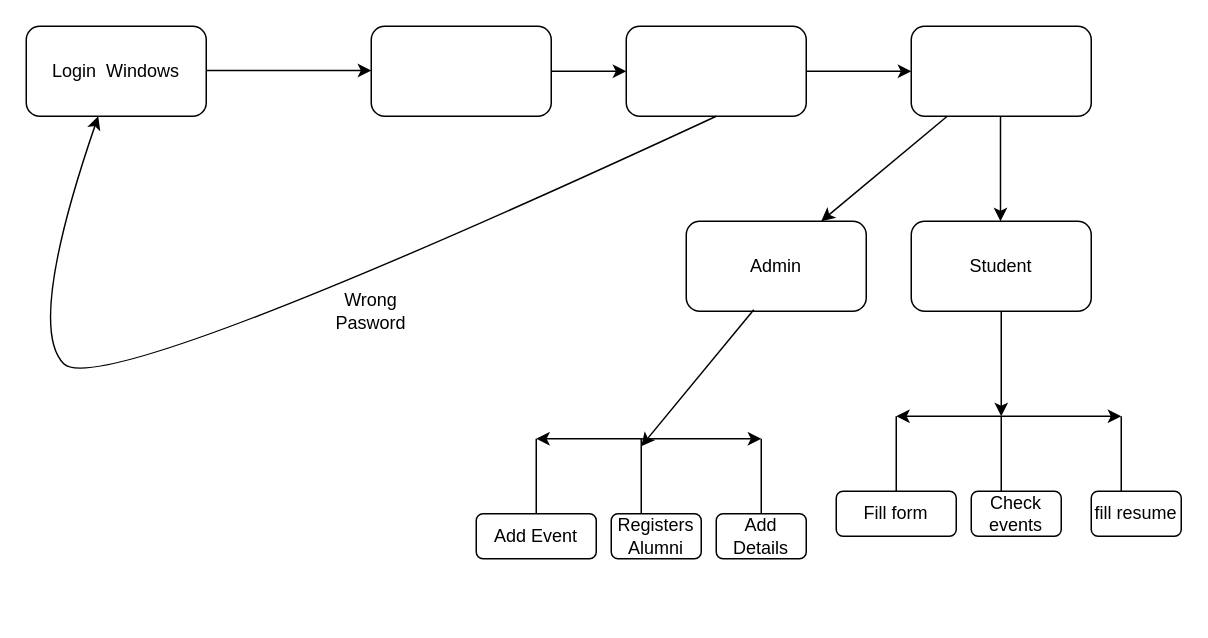
The diagram is 1208 pixels wide and 638 high, and some of its shapes have lost their labels. Each missing label, with the centre of its shape:
"Admin or Student Checks" goes at (x=460, y=70).
"check password" goes at (x=715, y=70).
"Loads panel" goes at (x=1000, y=70).
